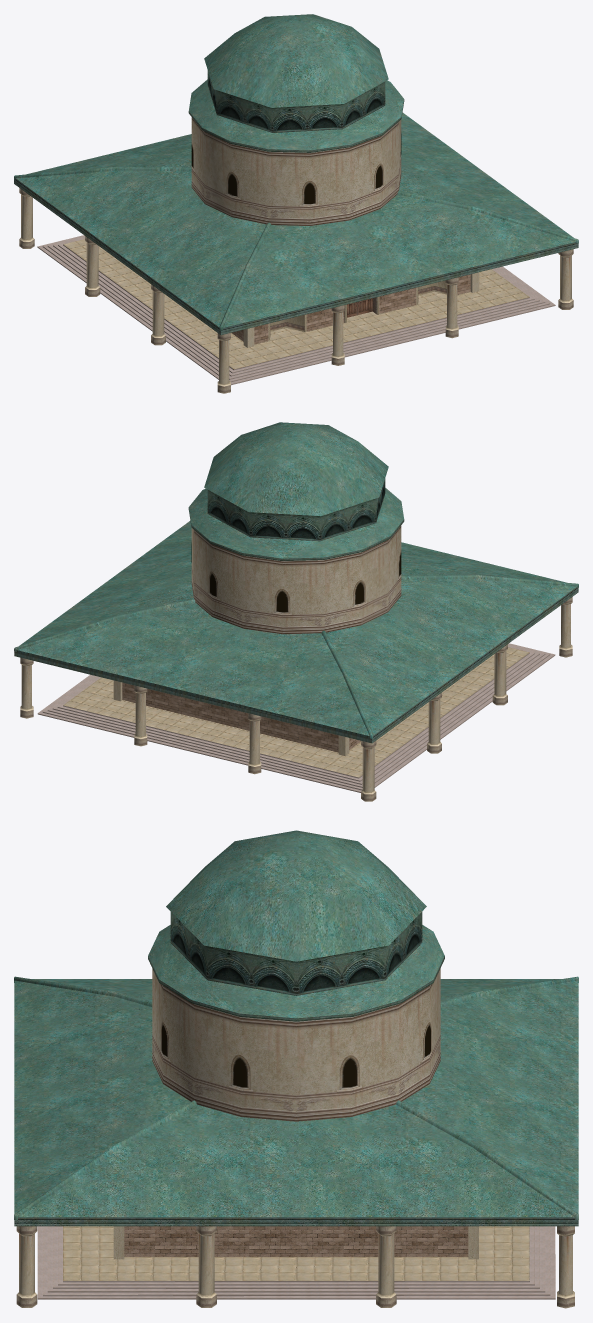
Rendered from thm_nboo_thed_imprv_building_s01_l0.fbx.
The picture shows the model from 3 angles, top to bottom: view 1: azimuth 30°, elevation 25°; view 2: azimuth 150°, elevation 25°; view 3: azimuth 270°, elevation 25°; orthographic projection. The views are drawn at different scales.
Parts seen in each view (by area): view 1: mesh_node; view 2: mesh_node; view 3: mesh_node.
Part boxes in pixels (x1=…): mesh_node: x1=14, y1=14, x2=578, y2=393; mesh_node: x1=14, y1=422, x2=578, y2=801; mesh_node: x1=14, y1=830, x2=578, y2=1308.
Bounding box in the file's own units: 47.16 × 31.97 × 47.18.
